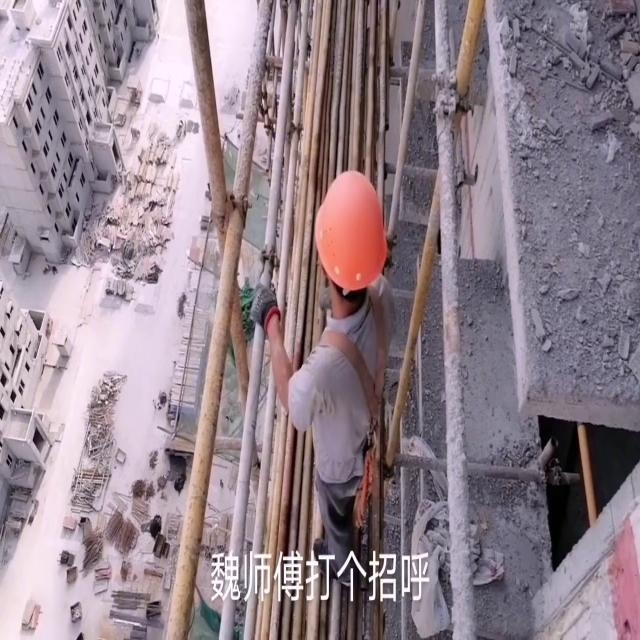Arnes_seguridad: (309, 285, 393, 501)
